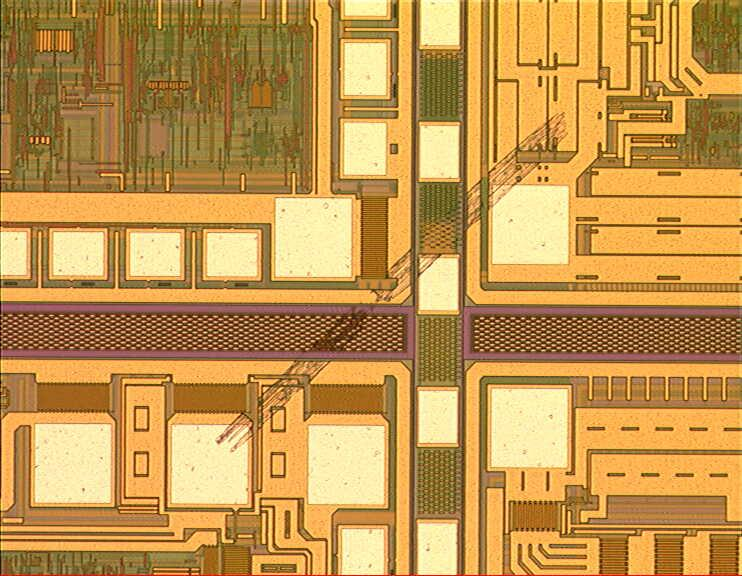SCRATCH: (210, 110, 577, 457)
